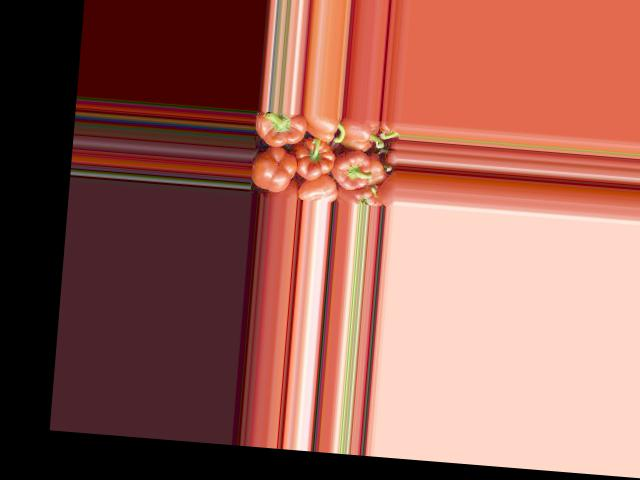bell_pepper: (296, 176, 337, 201)
